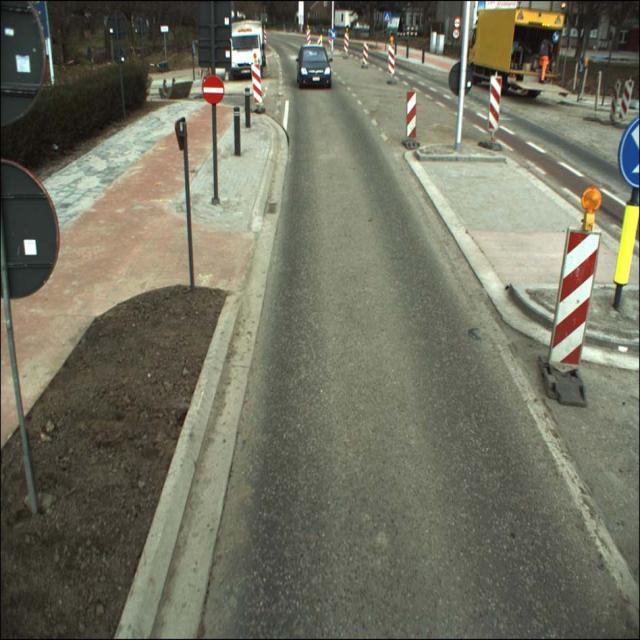girisyok: (202, 75, 224, 102)
